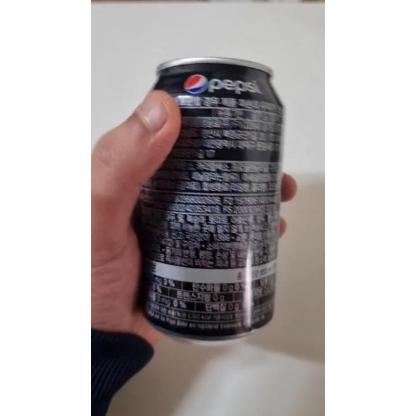Can: (130, 54, 284, 344)
